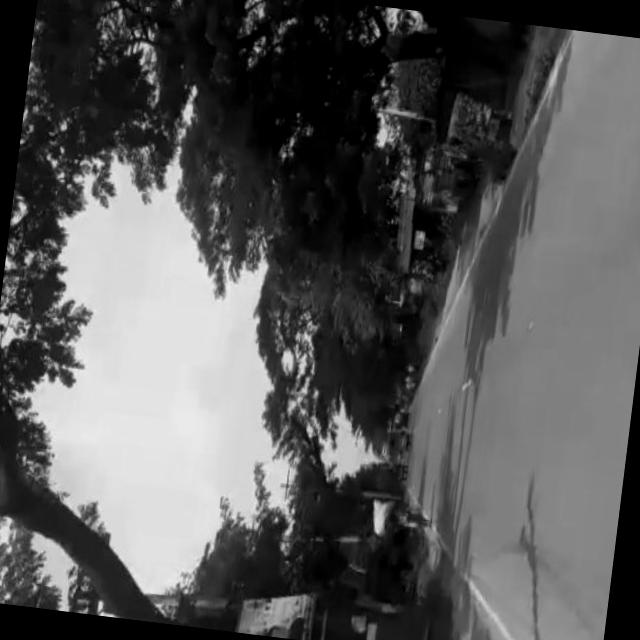motorcycle: (436, 96, 509, 170)
